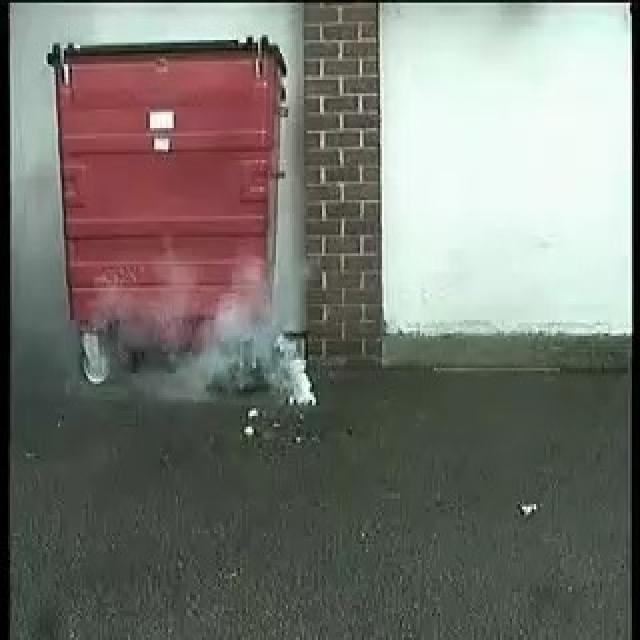smoke: (142, 271, 314, 404)
